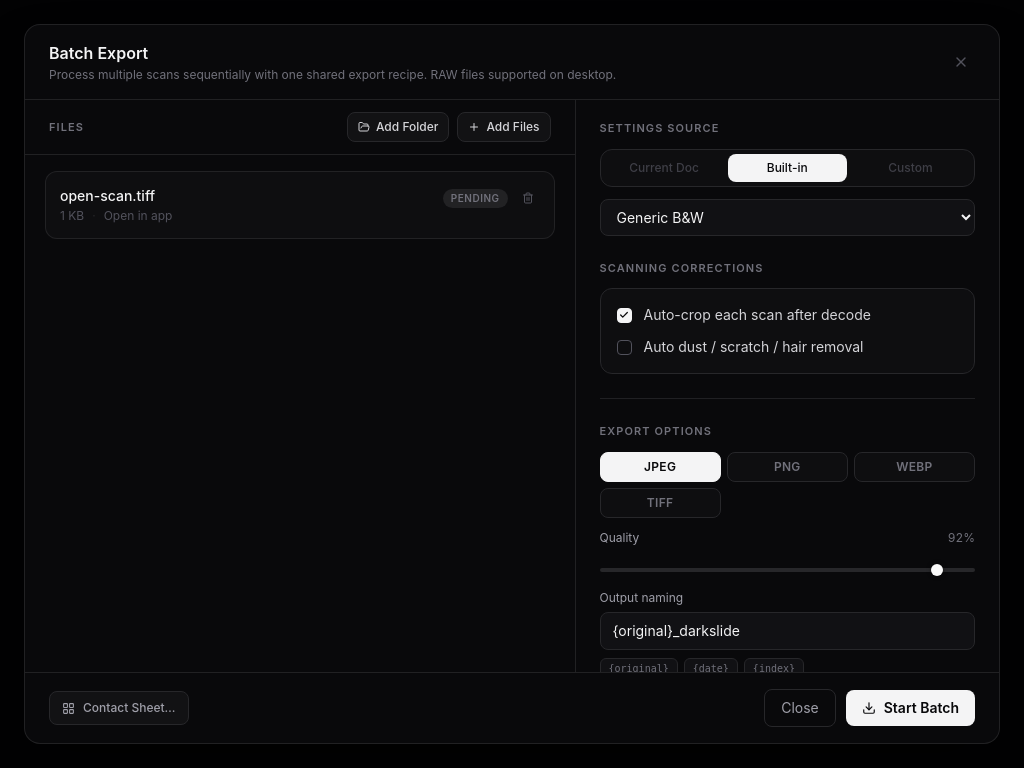
BatchModal › prompts for a desktop destination when starting without one selected
The width and height of the screenshot is (1024, 768).
Check: the text "open-scan.tiff" is shown, box [60,187,155,204]
Click the button "Start Batch" at (910, 708), box [846,690,975,726]
(page scrolled)
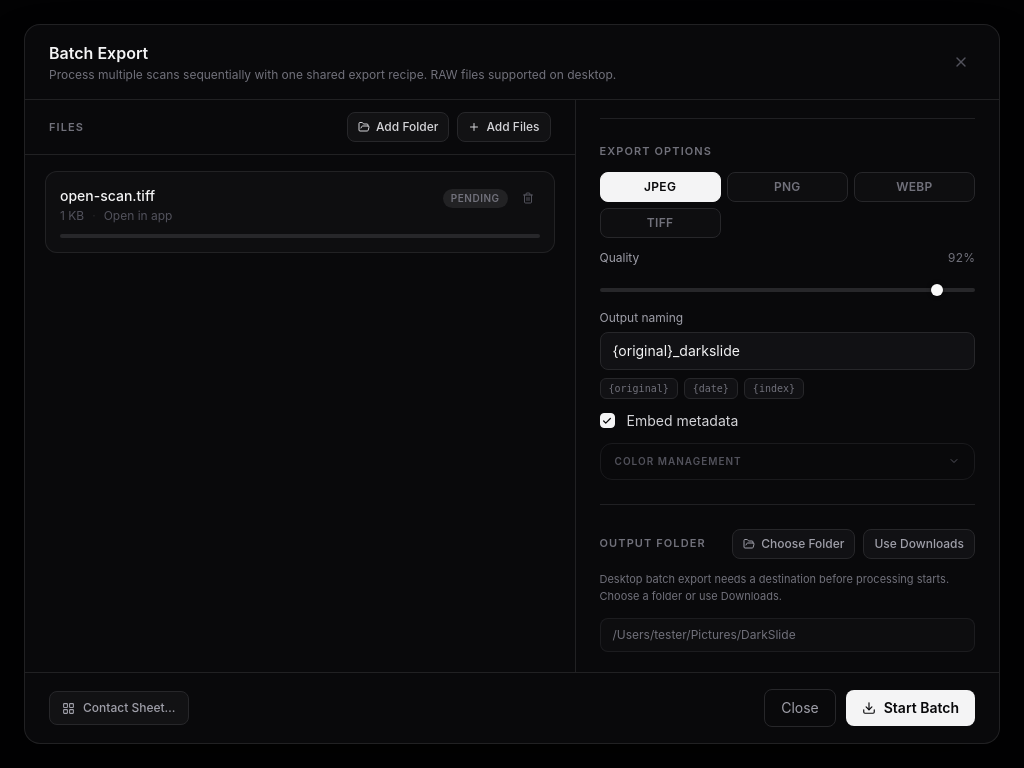
Check: the text "/Users/tester/Pictures/DarkSlide" is shown, box [600,618,975,652]
